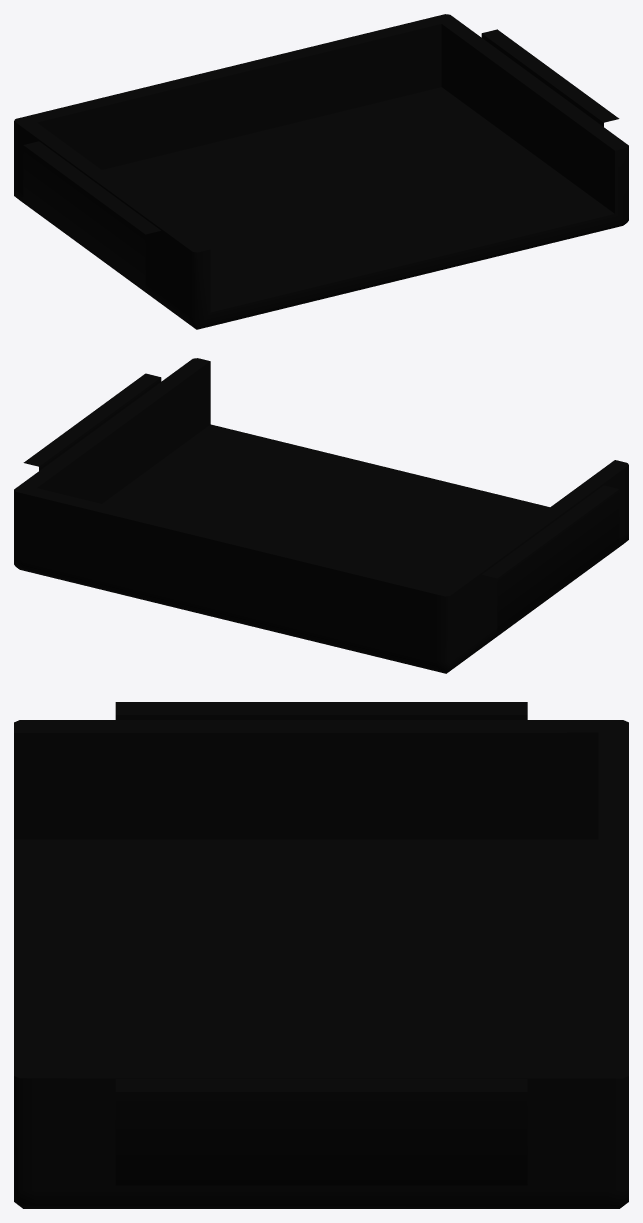
3 renders of one model, top to bottom at view 1: azimuth 30°, elevation 25°; view 2: azimuth 150°, elevation 25°; view 3: azimuth 270°, elevation 25°, orthographic. The views are drawn at different scales.
Visible parts, largest first — view 1: Joint_0_Object_1, Joint_0_Object_0, Joint_0_Object_2; view 2: Joint_0_Object_0, Joint_0_Object_1, Joint_0_Object_2; view 3: Joint_0_Object_1, Joint_0_Object_0, Joint_0_Object_2.
Boxes of the visible parts, left/top/right/bottom form: Joint_0_Object_1: left=37, top=24, right=614, bottom=312; Joint_0_Object_0: left=14, top=14, right=628, bottom=329; Joint_0_Object_2: left=23, top=29, right=619, bottom=289; Joint_0_Object_0: left=14, top=358, right=628, bottom=673; Joint_0_Object_1: left=37, top=361, right=549, bottom=586; Joint_0_Object_2: left=23, top=373, right=619, bottom=633; Joint_0_Object_1: left=14, top=732, right=598, bottom=1065; Joint_0_Object_0: left=14, top=720, right=628, bottom=1208; Joint_0_Object_2: left=115, top=702, right=527, bottom=1186.
Size of the model in its own units: 1500 by 245 by 1000.
Materials: 3 (3 with a texture image).
